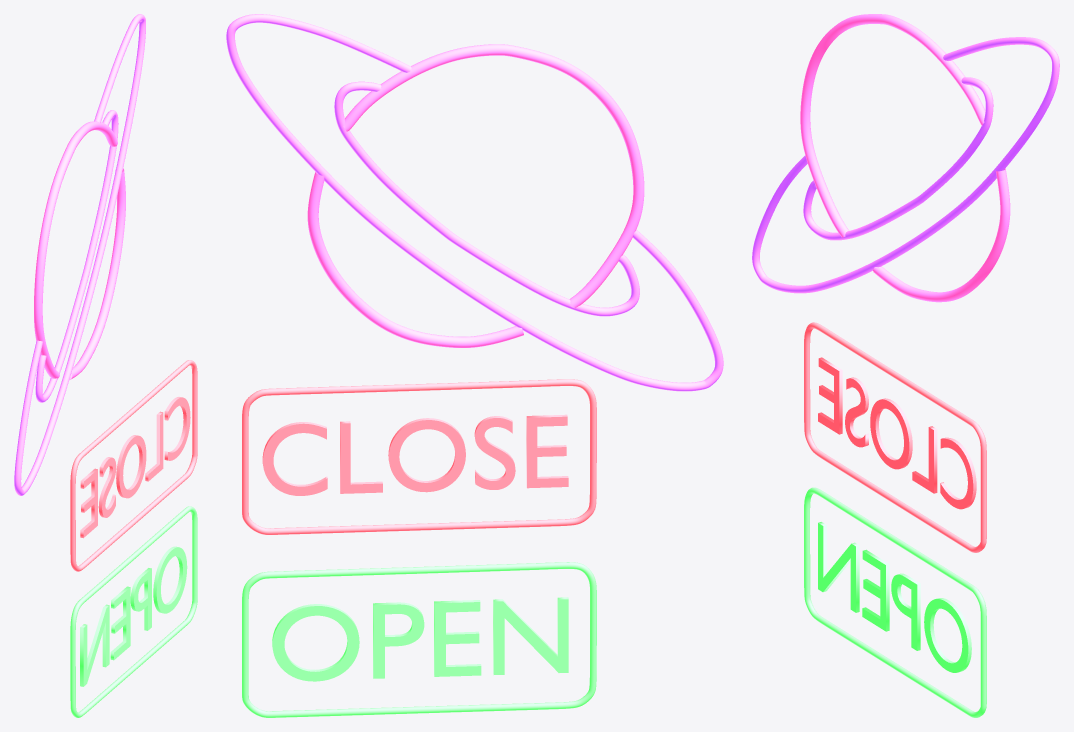
File: EnseigneLumineuse.fbx
3 views of the same model, side by side, from view 1: azimuth 30°, elevation 25°; view 2: azimuth 150°, elevation 25°; view 3: azimuth 270°, elevation 25° (orthographic). The views are drawn at different scales.
Parts seen in each view (by area): view 1: PLANET RING, PLANET SPEHERE, OPEN TYPO, CLOSE TYPO, OPEN CONTOUR, CLOSE CONTOUR; view 2: PLANET RING, PLANET SPEHERE, OPEN TYPO, CLOSE TYPO, CLOSE CONTOUR, OPEN CONTOUR; view 3: PLANET RING, PLANET SPEHERE, OPEN TYPO, CLOSE TYPO, CLOSE CONTOUR, OPEN CONTOUR.
Boxes of the visible parts, x1=… form: PLANET RING: x1=14, y1=14, x2=145, y2=495; PLANET SPEHERE: x1=34, y1=121, x2=125, y2=379; OPEN TYPO: x1=80, y1=546, x2=187, y2=686; CLOSE TYPO: x1=80, y1=397, x2=190, y2=538; OPEN CONTOUR: x1=70, y1=506, x2=197, y2=717; CLOSE CONTOUR: x1=70, y1=360, x2=197, y2=571; PLANET RING: x1=226, y1=14, x2=723, y2=391; PLANET SPEHERE: x1=307, y1=44, x2=644, y2=347; OPEN TYPO: x1=272, y1=597, x2=568, y2=681; CLOSE TYPO: x1=262, y1=414, x2=568, y2=495; CLOSE CONTOUR: x1=242, y1=379, x2=596, y2=534; OPEN CONTOUR: x1=242, y1=562, x2=596, y2=717; PLANET RING: x1=752, y1=37, x2=1059, y2=293; PLANET SPEHERE: x1=800, y1=14, x2=1010, y2=302; OPEN TYPO: x1=818, y1=522, x2=971, y2=672; CLOSE TYPO: x1=818, y1=357, x2=976, y2=509; CLOSE CONTOUR: x1=804, y1=322, x2=986, y2=552; OPEN CONTOUR: x1=804, y1=487, x2=986, y2=717.
Size of the model in its own units: 4.81 by 4.01 by 9.56.
